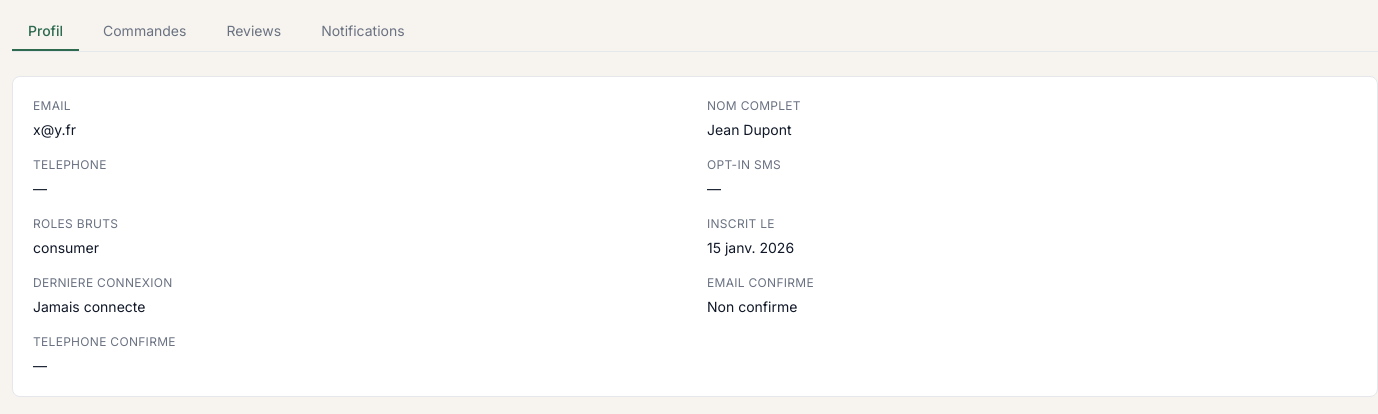
Scenario: UserDetailTabs — clic onglet Notifications › notifications=[] -> message 'Aucune notification'
What coordinates should you click on to do the following:
click the tab "Notifications"
I would click on:
 (363, 32)
Its box is [305,12,421,51].
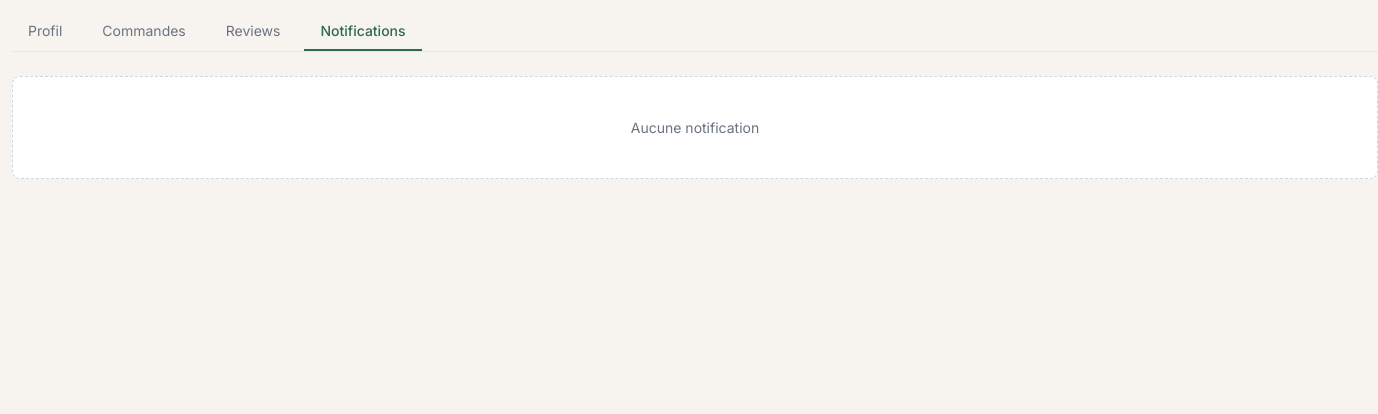
Now the text "Aucune notification" is shown, box [12,76,1377,179]
